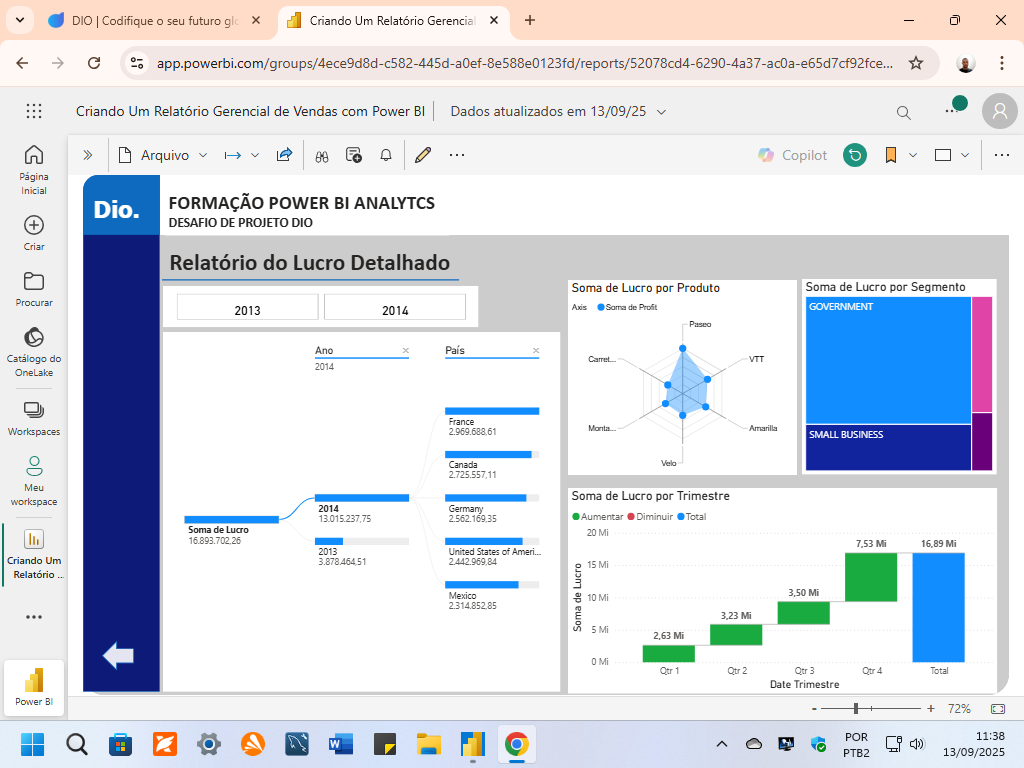

This screenshot's page, from the dashboard's own definition file:
{"tool":"powerbi","page":{"name":"Página 2","canvas":[1280,720],"ordinal":1},"visuals":[{"type":"shape","box":[0,0,106.3,714.1],"z":0,"group":"g4"},{"type":"shape","title":"Fundo","box":[0,0,1280,719],"z":0},{"type":"shape","box":[106.5,0,1173.5,83.3],"z":0,"group":"g1"},{"type":"shape","box":[108.8,138.1,410.6,13.5],"z":0,"group":"g2"},{"type":"shape","box":[110.6,153.3,436.1,56.9],"z":0,"group":"g3"},{"type":"shape","box":[0,0,106,82.6],"z":1000,"group":"g4"},{"type":"textbox","box":[113.4,16.2,393.5,67.1],"z":1000,"group":"g1"},{"type":"textbox","box":[113.7,96.4,454.9,57.8],"z":1000,"group":"g2"},{"type":"treemap","title":"Soma de Lucro por Segmento ","fields":{"Group":["financials.Segment"],"Values":["Sum(financials.Profit)"]},"box":[994,143.8,268.6,270.2],"z":1000},{"type":"advancedSlicerVisual","fields":{"Values":["financials.Date.Variation.Hierarquia de datas.Ano"]},"box":[124.4,158.2,411.3,47],"z":1000,"group":"g3"},{"type":"textbox","title":"Logo Dio","box":[9.2,22,89.7,53.1],"z":2000,"group":"g4"},{"type":"decompositionTreeVisual","title":"Soma de Lucro por Ano e País ","fields":{"ExplainBy":["financials.Year","financials.Country"],"Analyze":["Sum(financials.Profit)"]},"box":[111.2,217.5,548.6,496.7],"z":2000},{"type":"group","id":"g1","title":"Título","box":[106.5,0,1173.5,83.3],"z":3000},{"type":"group","id":"g2","title":"Subtítulo","box":[108.8,96.4,459.8,57.8],"z":4000},{"type":"group","id":"g3","title":"Ano","box":[110.6,153.3,436.1,56.9],"z":5000},{"type":"group","id":"g4","title":"Dio","box":[0,0,106.3,714.1],"z":6000},{"type":"shape","title":"9 Forma","box":[25.8,643.8,43.9,40.9],"z":7000},{"type":"waterfallChart","title":"Soma de Lucro por Trimestre ","fields":{"Category":["financials.Date.Variation.Hierarquia de datas.Trimestre"],"Y":["Sum(financials.Profit)"]},"box":[669.7,432.4,593.1,284.2],"z":8000},{"type":"RadarChart1446119667547","title":"Soma de Lucro por Produto","fields":{"Category":["financials.Product"],"Y":["Sum(financials.Profit)"]},"box":[670,145.4,316,268.6],"z":9000}]}

Visuals, with their boxes on the page's 1280x720 design canvas (x1, y1, x2, y2). These are canvas units, not pixel positions in the 1024x768 screenshot, which may show the page scaled, cropped or inside an application window:
shape: 0/0/106/714
"Fundo" shape: 0/0/1280/719
shape: 106/0/1280/83
shape: 109/138/519/152
shape: 111/153/547/210
shape: 0/0/106/83
textbox: 113/16/507/83
textbox: 114/96/569/154
"Soma de Lucro por Segmento " treemap: 994/144/1263/414
advancedSlicerVisual - financials.Date.Variation.Hierarquia de datas.Ano: 124/158/536/205
"Logo Dio" textbox: 9/22/99/75
"Soma de Lucro por Ano e País " decompositionTreeVisual: 111/218/660/714
"Título" group: 106/0/1280/83
"Subtítulo" group: 109/96/569/154
"Ano" group: 111/153/547/210
"Dio" group: 0/0/106/714
"9 Forma" shape: 26/644/70/685
"Soma de Lucro por Trimestre " waterfallChart: 670/432/1263/717
"Soma de Lucro por Produto" RadarChart1446119667547: 670/145/986/414
